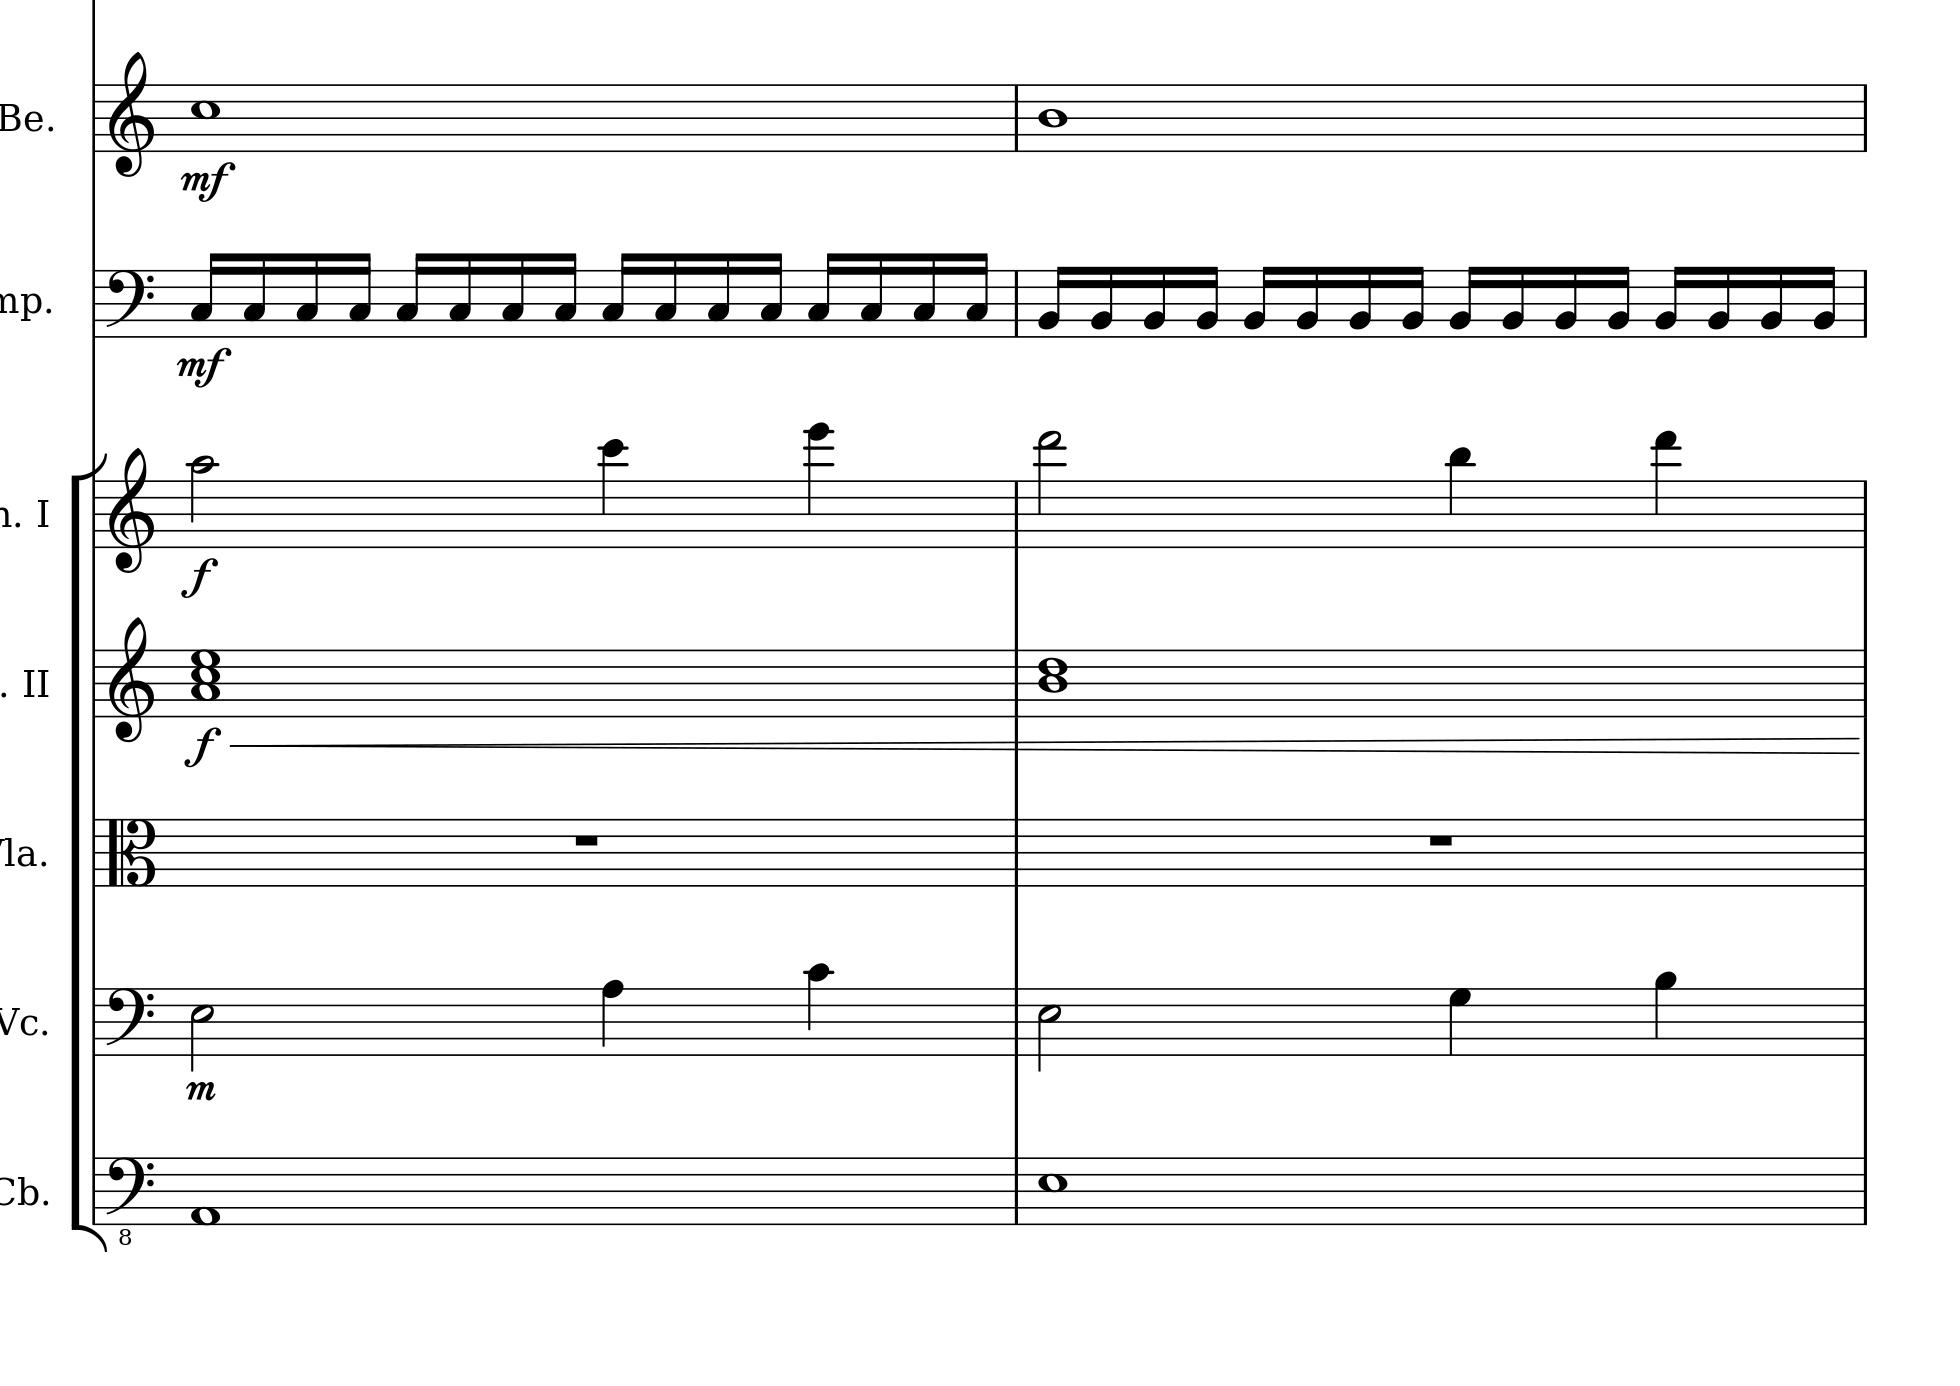16_2: (1035, 262, 1071, 340), (1242, 262, 1276, 340), (1447, 262, 1482, 339), (1653, 262, 1687, 339), (1294, 262, 1323, 340), (1812, 262, 1840, 340), (1087, 262, 1116, 339), (1141, 262, 1170, 339), (1194, 262, 1221, 340), (1401, 262, 1428, 340), (1606, 262, 1633, 340), (1500, 262, 1527, 339), (1554, 262, 1581, 339), (1707, 262, 1734, 339), (1761, 262, 1788, 339), (1348, 262, 1374, 340)
16_3: (394, 249, 430, 339), (598, 250, 634, 339), (190, 249, 225, 337), (805, 250, 838, 339), (963, 249, 991, 340), (705, 250, 733, 340), (858, 250, 886, 339), (910, 250, 939, 339), (346, 249, 373, 339), (757, 250, 784, 340), (241, 249, 268, 337), (447, 250, 474, 339), (499, 250, 526, 339), (652, 250, 679, 339), (552, 250, 577, 340), (295, 249, 321, 337)
1_1: (189, 1153, 220, 1231)
1_4: (1036, 79, 1071, 154)
1_4_6: (1035, 648, 1071, 720)
1_5: (190, 79, 220, 153), (1038, 1153, 1068, 1225)
1_th: (190, 646, 220, 709)
2_10: (186, 451, 217, 550)
2_13: (1035, 427, 1065, 550)
2_5: (1035, 985, 1063, 1074), (189, 985, 216, 1072)
4_10: (805, 960, 831, 1057)
4_11: (1446, 442, 1474, 550)
4_12: (598, 436, 628, 550)
4_13: (1653, 427, 1680, 550)
4_14: (802, 421, 834, 550)
4_7: (1447, 985, 1473, 1056)
4_8: (598, 976, 625, 1057)
4_9: (1653, 967, 1677, 1057)
Bracke: (64, 448, 108, 1249)
Cclef: (105, 816, 157, 888)
Fclef: (106, 985, 156, 1057), (103, 268, 154, 327)
Gclef: (106, 49, 156, 178), (106, 615, 156, 742), (106, 445, 154, 574)
Lower_Fclef: (105, 1155, 156, 1246)
Rests1: (571, 831, 603, 849), (1425, 831, 1456, 847)
Single_barline: (1006, 817, 1027, 886), (1006, 988, 1027, 1056), (1008, 1156, 1027, 1222), (1008, 268, 1026, 336), (1008, 480, 1026, 547), (85, 817, 103, 885), (1855, 819, 1873, 886), (1008, 84, 1026, 150), (1008, 649, 1026, 715), (85, 649, 103, 715), (85, 988, 103, 1054), (1857, 268, 1873, 337), (87, 270, 103, 337), (87, 480, 103, 547), (1857, 649, 1873, 717), (1857, 84, 1873, 150), (1857, 480, 1873, 546), (1857, 988, 1873, 1054), (87, 1156, 103, 1222), (1857, 1156, 1873, 1222), (87, 82, 102, 151)
Vla: (1, 829, 37, 876)
f: (183, 724, 222, 768), (180, 556, 219, 598)
mf: (177, 346, 232, 390), (181, 159, 237, 201)
mp: (181, 1077, 219, 1102)
